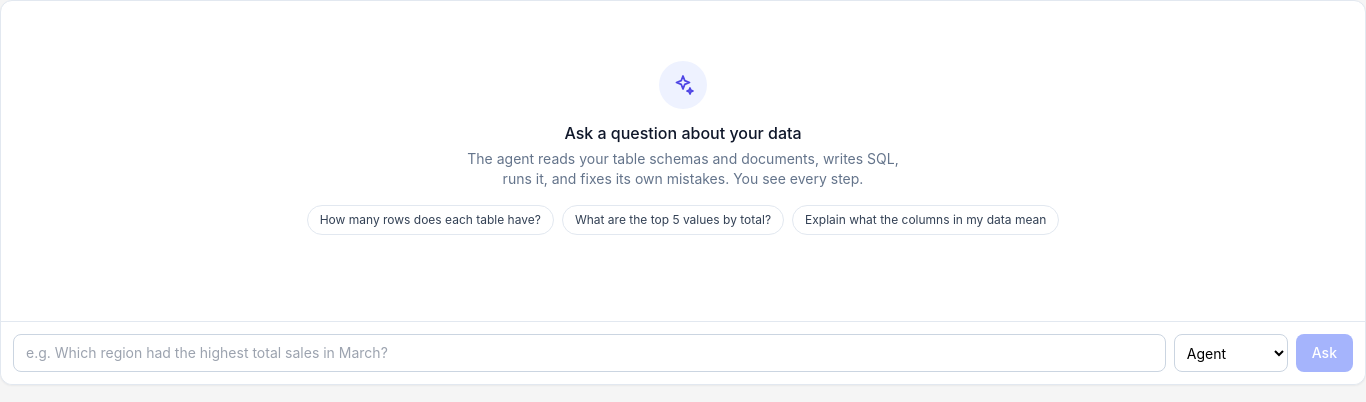
shows citations and opens the source passage
This screenshot has width=1366, height=402.
Type "What is All causes?" into the field named "Question" at (589, 353), box [13,334,1166,372]
Then press Enter
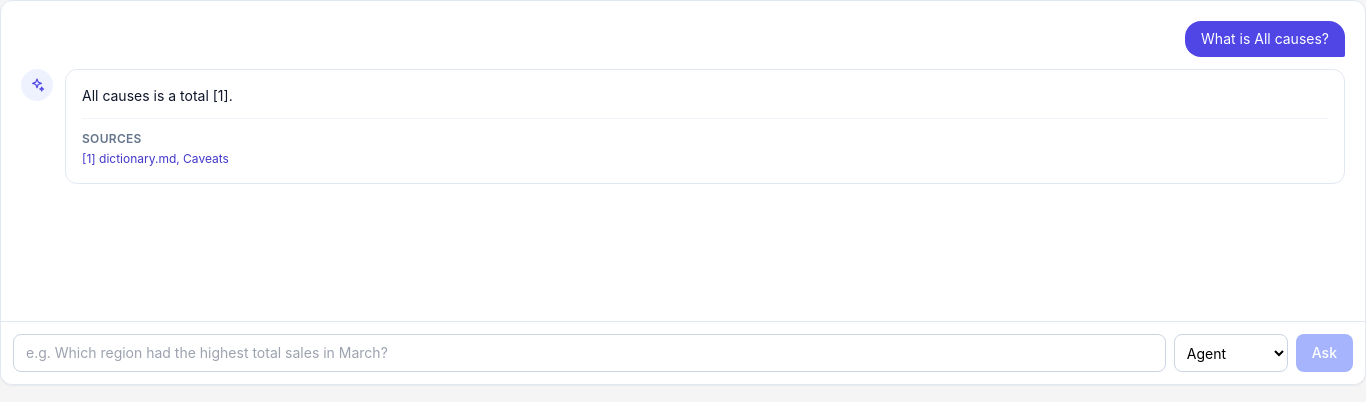
Click the button "[1] dictionary.md, Caveats" at (155, 159), box [82,151,229,167]
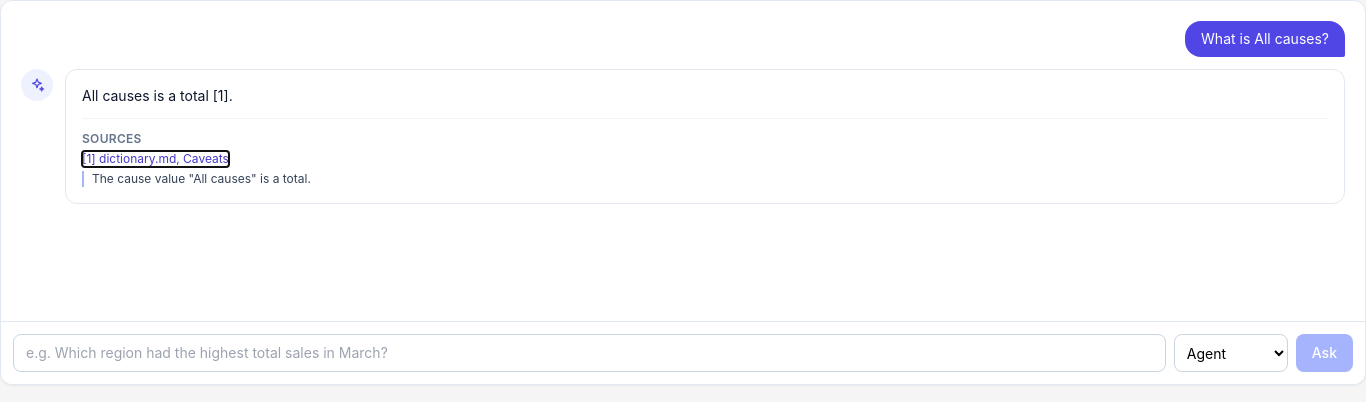
Expected: the text "The cause value \"All causes\" is a total." is shown, [82,171,1328,187]
